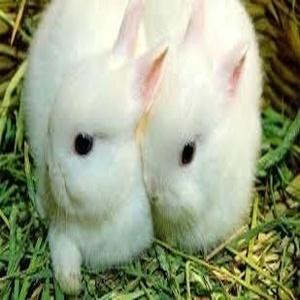rabbit: (23, 0, 263, 297)
